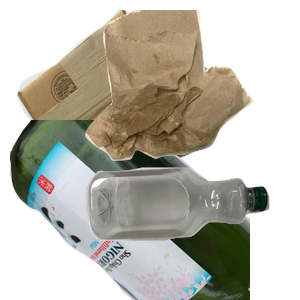cardboard: (14, 10, 222, 190)
glass: (10, 120, 250, 300)
plastic: (83, 165, 300, 300)
trash: (83, 10, 300, 163)
